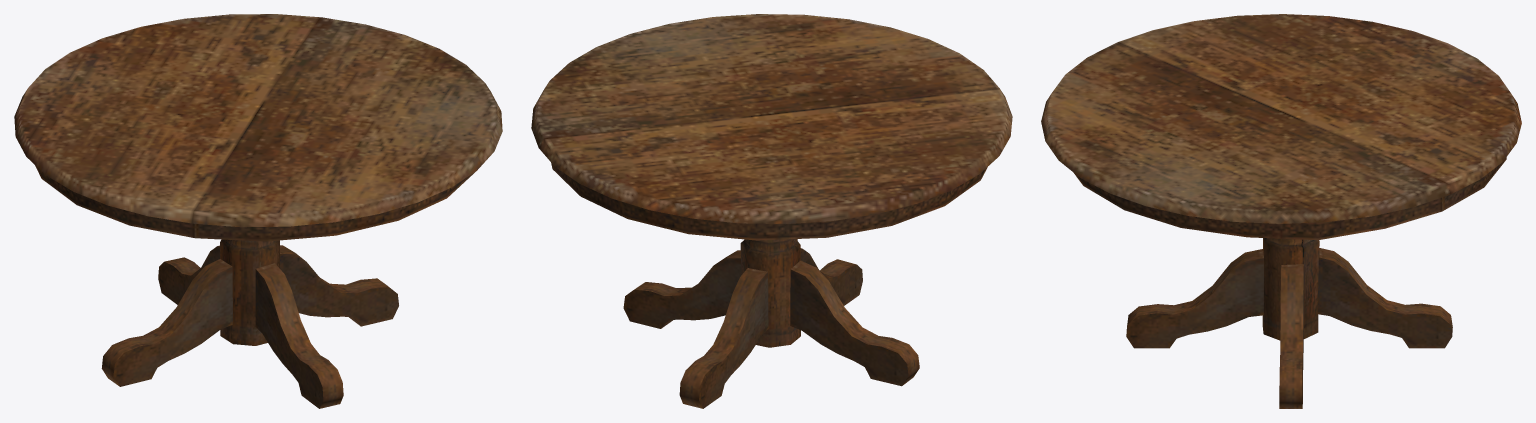
Rendered from 119_RoundTable.fbx.
3 views of the same model, side by side, from view 1: azimuth 30°, elevation 25°; view 2: azimuth 150°, elevation 25°; view 3: azimuth 270°, elevation 25° (orthographic).
Parts seen in each view (by area): view 1: LOD_1_Group_0_Sub_1__sm30_119_RoundTable01A_B_Mat; view 2: LOD_1_Group_0_Sub_1__sm30_119_RoundTable01A_B_Mat; view 3: LOD_1_Group_0_Sub_1__sm30_119_RoundTable01A_B_Mat.
Part boxes in pixels (left/top/right/bottom): LOD_1_Group_0_Sub_1__sm30_119_RoundTable01A_B_Mat: left=14, top=14, right=502, bottom=408; LOD_1_Group_0_Sub_1__sm30_119_RoundTable01A_B_Mat: left=531, top=14, right=1012, bottom=408; LOD_1_Group_0_Sub_1__sm30_119_RoundTable01A_B_Mat: left=1041, top=14, right=1521, bottom=408.
Bounding box in the file's own units: 1.01 × 0.5388 × 1.01.
